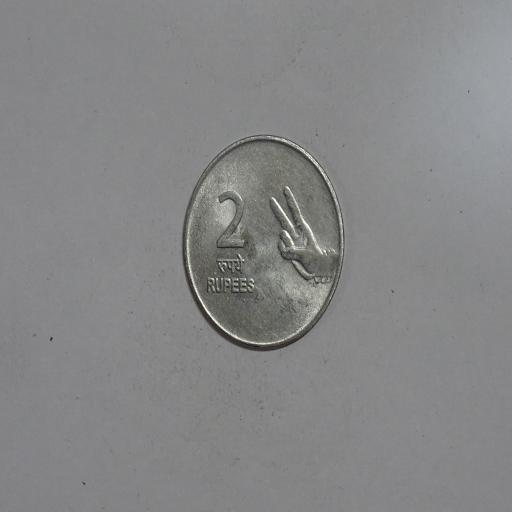rupee2: (182, 136, 344, 348)
